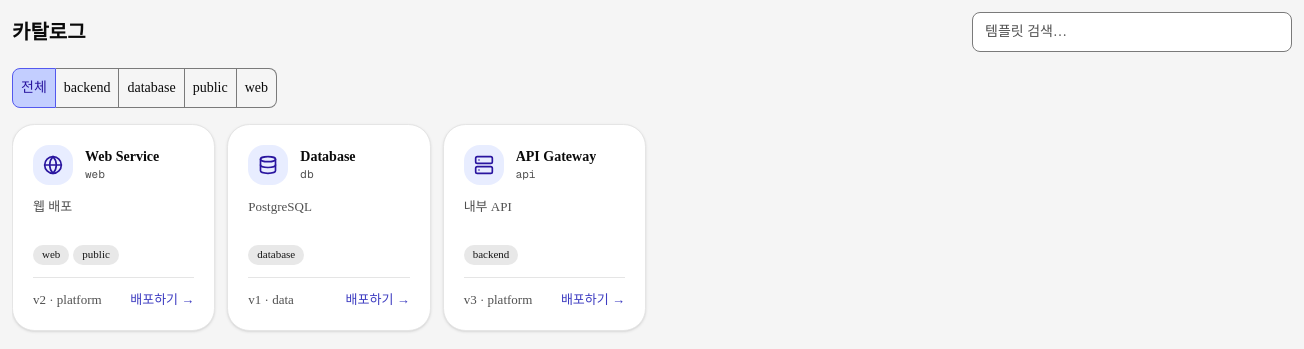
CatalogBrowser › filters by search (matches display_name)
Type "API" into the field with placeholder "템플릿 검색…" at (1132, 32), box [972,12,1292,52]
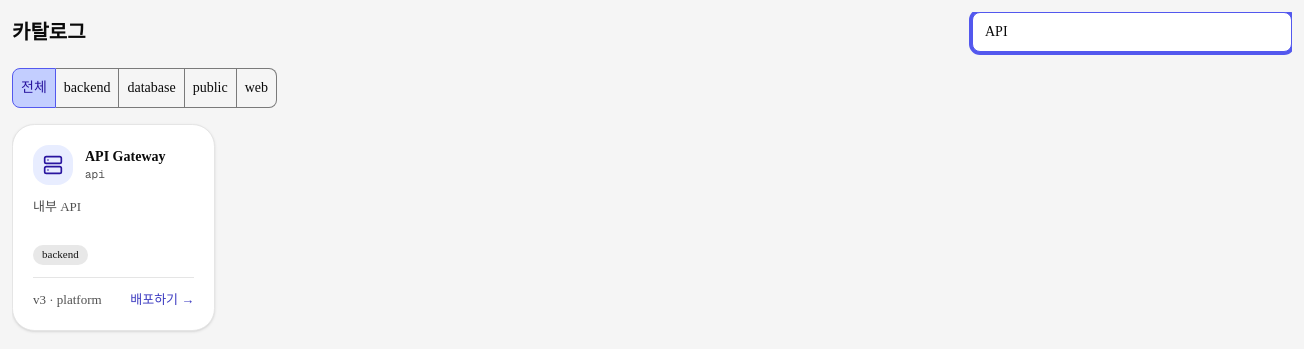
Expected: the heading "API Gateway" is shown, [85,147,166,167]
Result: the heading "Web Service" is gone
